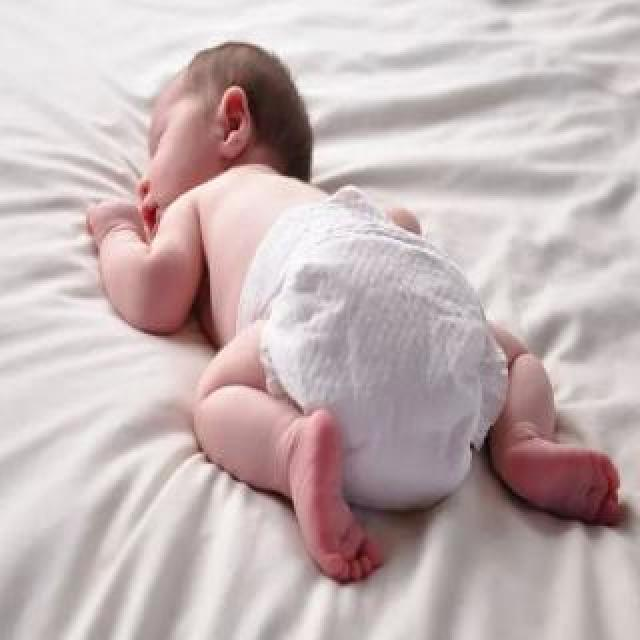baby: (89, 28, 629, 588)
